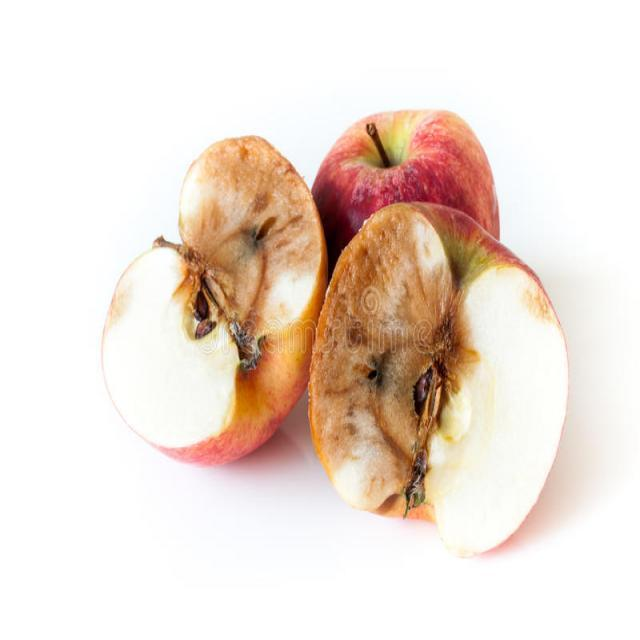Banana: (310, 197, 570, 567), (97, 130, 327, 473)
